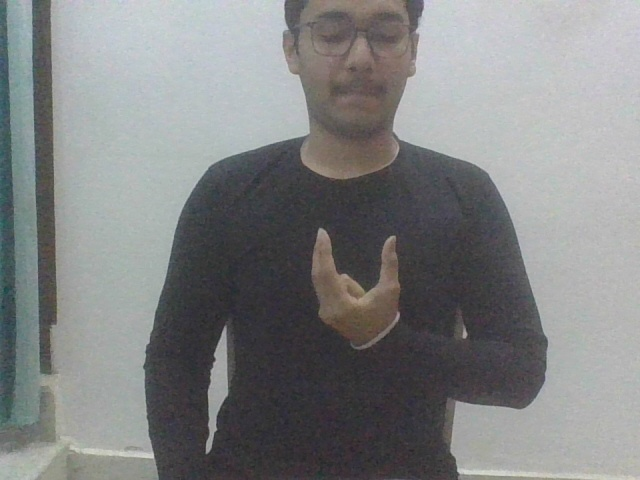U: (306, 223, 407, 357)
